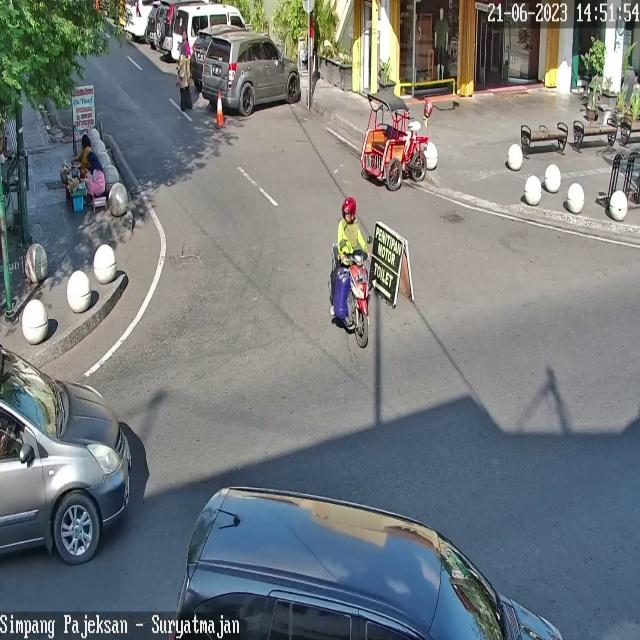bus: (329, 243, 369, 348)
motorcycle: (166, 487, 564, 640), (0, 340, 132, 565), (203, 31, 300, 115), (172, 4, 247, 64), (190, 28, 213, 83), (154, 0, 175, 54), (124, 0, 151, 35)
